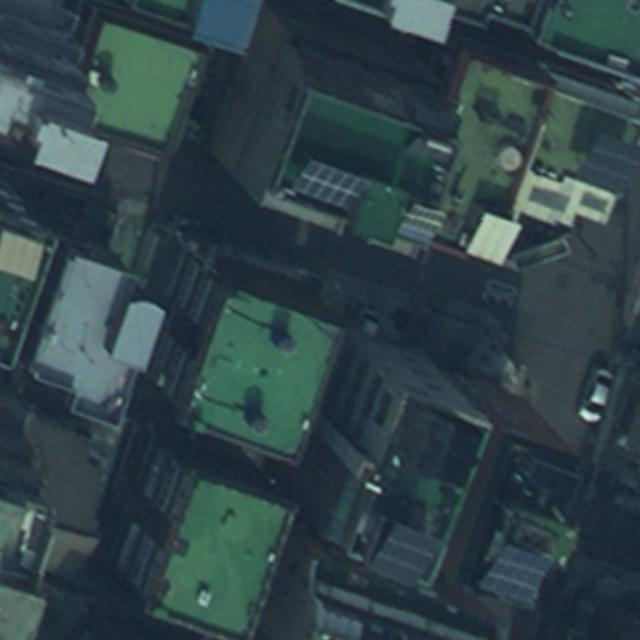panel: (366, 522, 442, 588), (478, 544, 555, 602), (291, 157, 372, 210), (395, 202, 448, 244)
